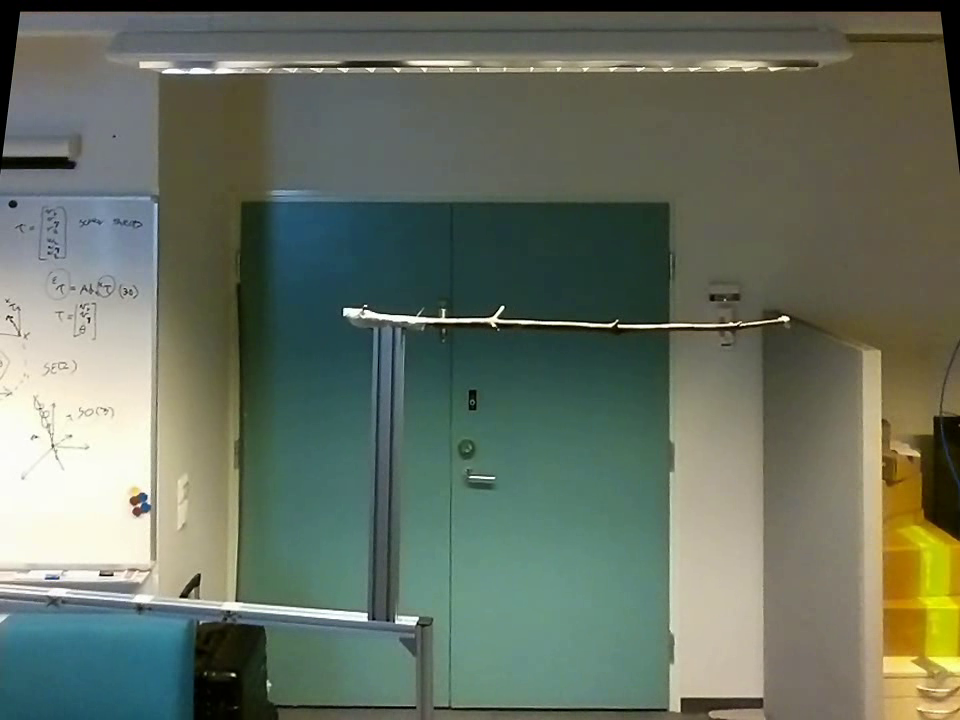aluminum_frame: (2, 581, 411, 639), (364, 332, 404, 624), (146, 197, 163, 577), (406, 609, 440, 717), (1, 189, 159, 209)
branch: (433, 295, 772, 355)
